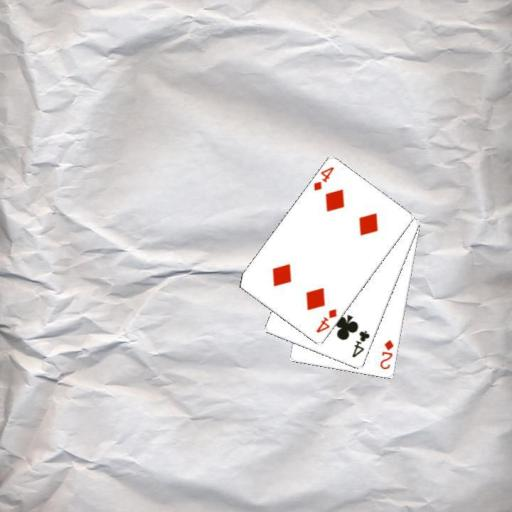2D: (377, 337, 395, 371)
4C: (349, 328, 371, 359)
4D: (310, 164, 336, 193), (313, 306, 338, 335)
